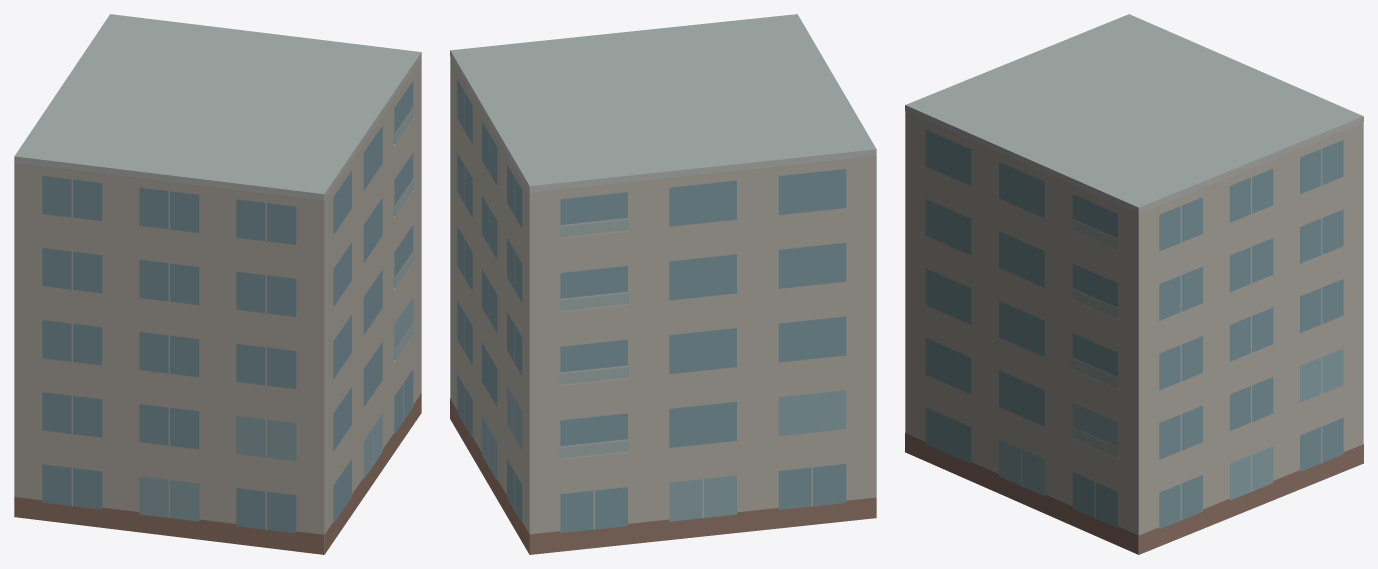
The model's file is survey-upis-33009176.glb.
The picture shows the model from 3 angles, left to right: view 1: azimuth 30°, elevation 25°; view 2: azimuth 150°, elevation 25°; view 3: azimuth 270°, elevation 25°; orthographic projection. The views are drawn at different scales.
Visible parts, largest first — view 1: survey-upis-33009176.tmp; view 2: survey-upis-33009176.tmp; view 3: survey-upis-33009176.tmp.
Part boxes in pixels (bbox=[...]): survey-upis-33009176.tmp: bbox=[14, 14, 421, 554]; survey-upis-33009176.tmp: bbox=[450, 14, 876, 554]; survey-upis-33009176.tmp: bbox=[905, 14, 1363, 554].
Size of the model in its own units: 16.75 by 14 by 16.76.
